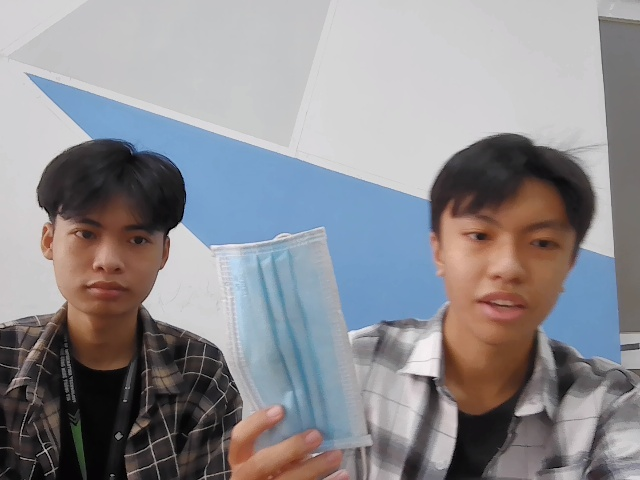human: (434, 131, 592, 338), (30, 125, 193, 317)
mask: (212, 231, 376, 451)
